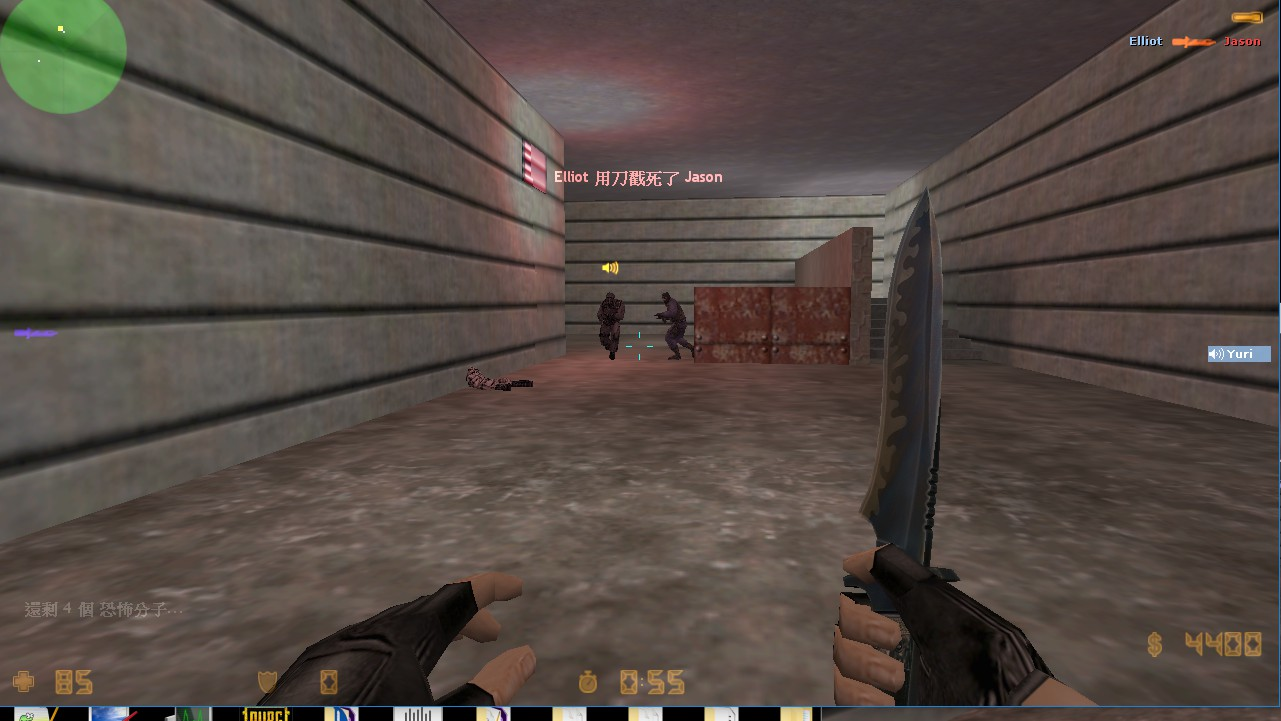person: (653, 293, 694, 363), (592, 290, 625, 365)
